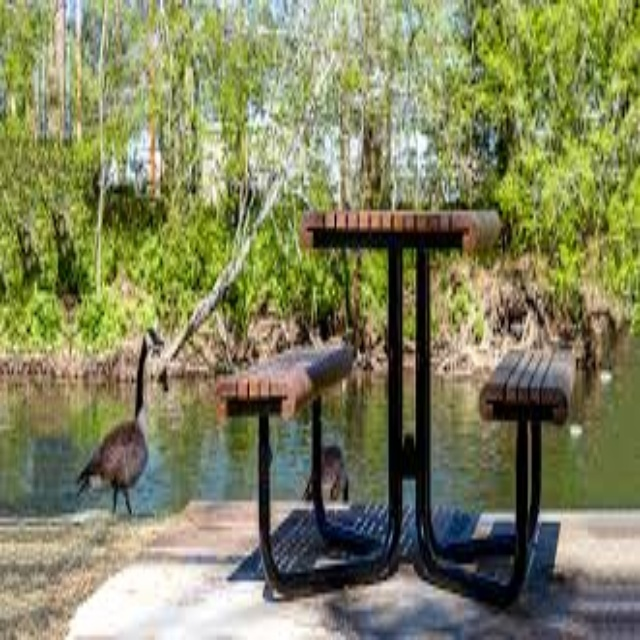obstacle: (217, 194, 578, 619)
